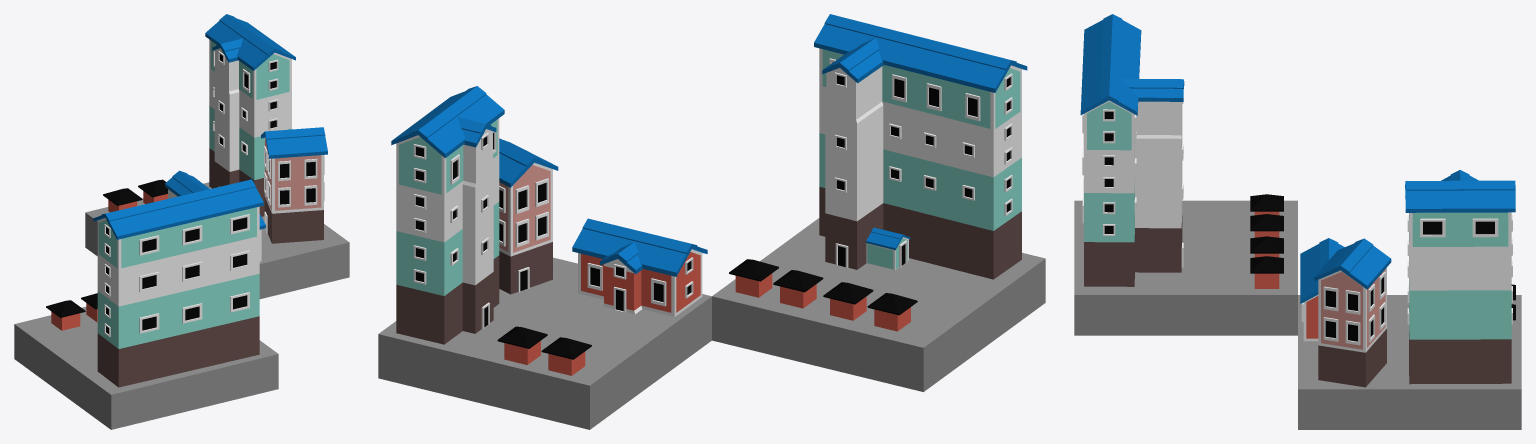
The picture shows the model from 3 angles, left to right: view 1: azimuth 30°, elevation 25°; view 2: azimuth 150°, elevation 25°; view 3: azimuth 270°, elevation 25°; orthographic projection. The views are drawn at different scales.
Parts seen in each view (by area): view 1: Mesh_X_V1, Mesh_X_V1.001, Mesh_X_V1.002; view 2: Mesh_X_V1, Mesh_X_V1.001, Mesh_X_V1.002; view 3: Mesh_X_V1, Mesh_X_V1.001, Mesh_X_V1.002.
Part boxes in pixels (left/top/right/bottom): Mesh_X_V1: left=46, top=14, right=327, bottom=387; Mesh_X_V1.001: left=14, top=306, right=278, bottom=429; Mesh_X_V1.002: left=85, top=182, right=349, bottom=298; Mesh_X_V1: left=391, top=14, right=1027, bottom=375; Mesh_X_V1.001: left=712, top=218, right=1045, bottom=391; Mesh_X_V1.002: left=378, top=257, right=711, bottom=429; Mesh_X_V1: left=1080, top=14, right=1515, bottom=387; Mesh_X_V1.001: left=1074, top=200, right=1297, bottom=335; Mesh_X_V1.002: left=1298, top=295, right=1521, bottom=429.
Size of the model in its own units: 200 by 115 by 200.
